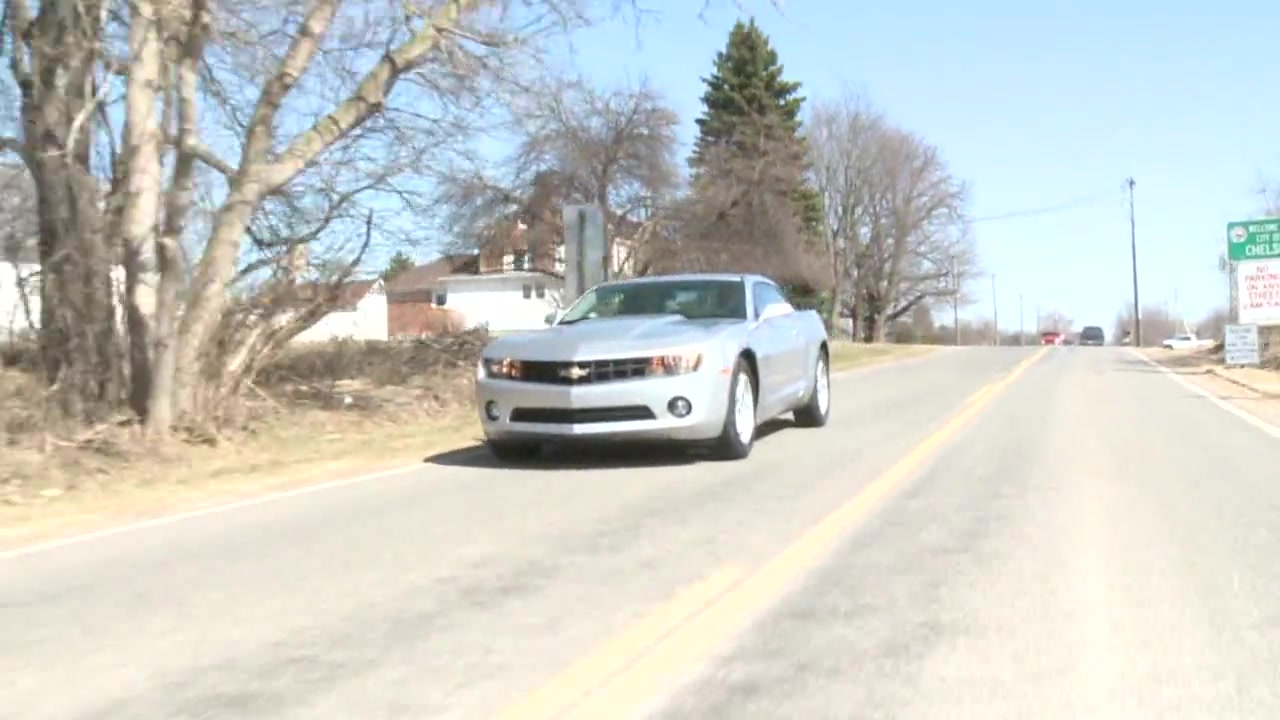car: (473, 273, 835, 458)
